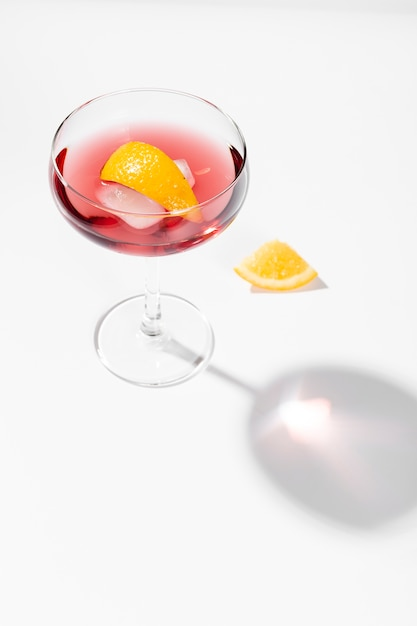alcohol: (46, 79, 247, 391)
